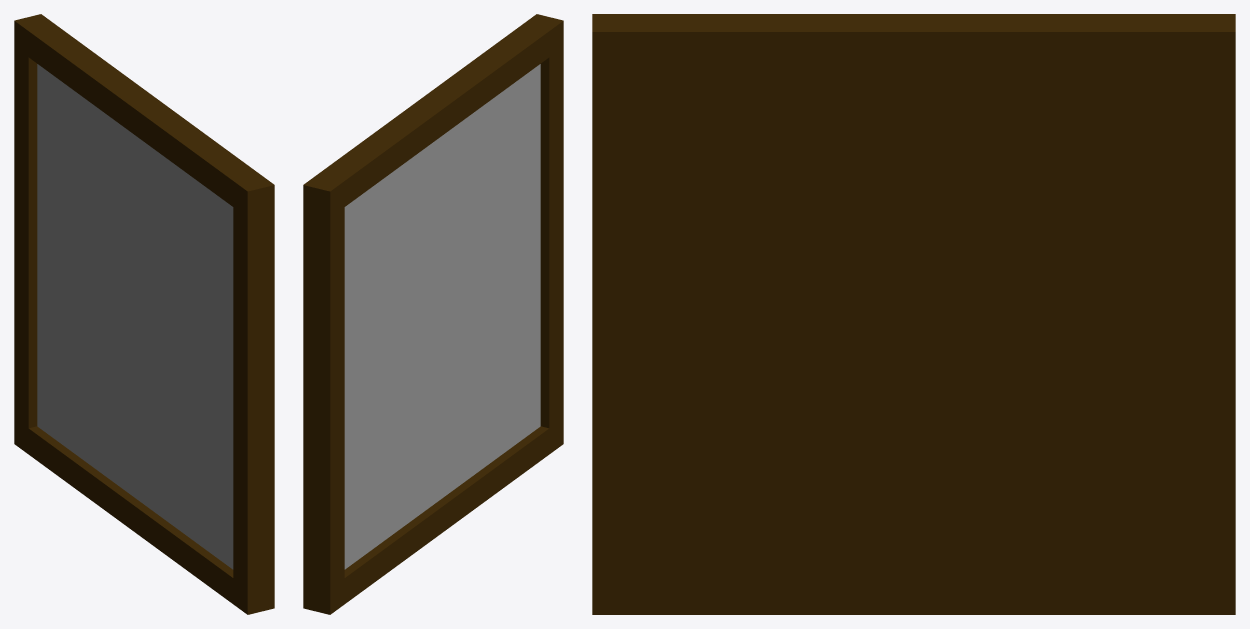
Rendered from painting.fbx.
3 views of the same model, side by side, from view 1: azimuth 30°, elevation 25°; view 2: azimuth 150°, elevation 25°; view 3: azimuth 270°, elevation 25° (orthographic). The views are drawn at different scales.
Visible parts, largest first — view 1: pCube1; view 2: pCube1; view 3: pCube1.
Boxes of the visible parts, x1,y1,x2,y2 form: pCube1: (14,14,274,614); pCube1: (303,14,563,614); pCube1: (592,14,1235,614).
Bounding box in the file's own units: 0.3338 × 5 × 5.
